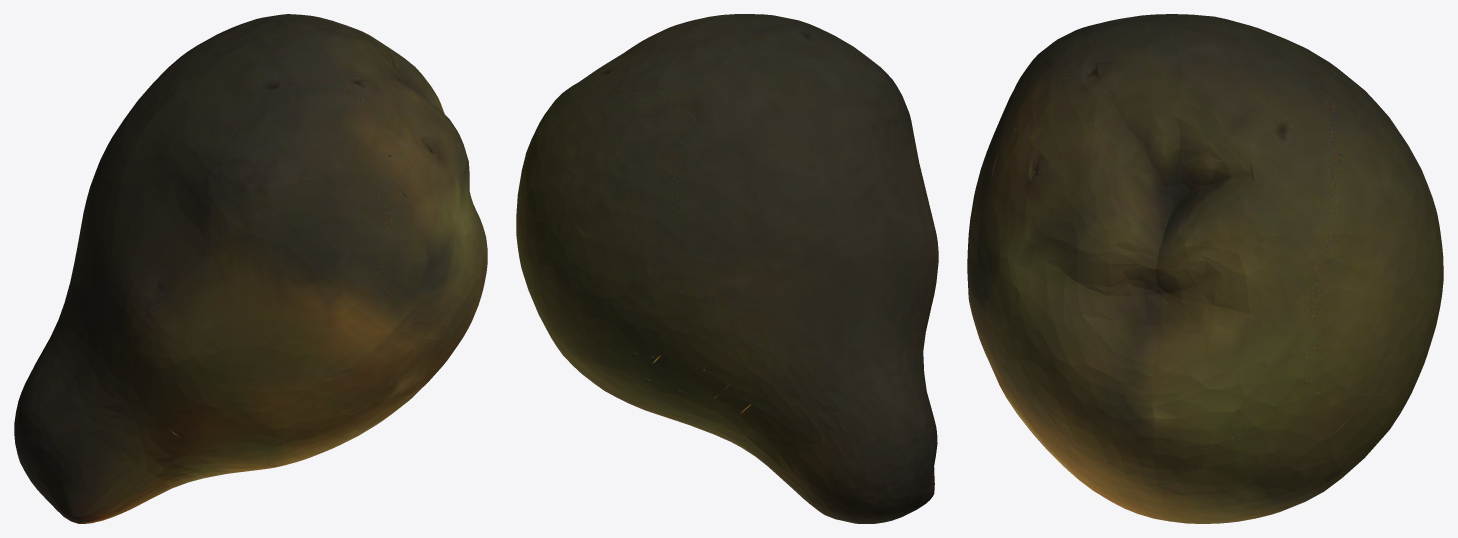
The model's file is brown_pear_in_the_foreground_right_000.glb.
3 renders of one model, left to right at view 1: azimuth 30°, elevation 25°; view 2: azimuth 150°, elevation 25°; view 3: azimuth 270°, elevation 25°, orthographic. The views are drawn at different scales.
Parts seen in each view (by area): view 1: brown_pear_in_the_foreground_right_000.obj; view 2: brown_pear_in_the_foreground_right_000.obj; view 3: brown_pear_in_the_foreground_right_000.obj.
Boxes of the visible parts, left/top/right/bottom form: brown_pear_in_the_foreground_right_000.obj: left=14, top=14, right=487, bottom=523; brown_pear_in_the_foreground_right_000.obj: left=516, top=14, right=938, bottom=523; brown_pear_in_the_foreground_right_000.obj: left=967, top=14, right=1443, bottom=523.
Bounding box in the file's own units: 0.2042 × 0.209 × 0.1706.
Materials: 1 (1 with a texture image).
